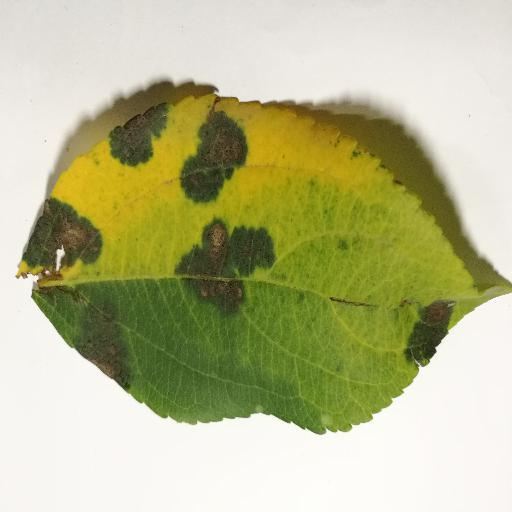Brown_Spot: (177, 224, 266, 305), (11, 194, 102, 270), (180, 113, 252, 199), (82, 312, 138, 397), (398, 301, 464, 370), (110, 110, 164, 168)
